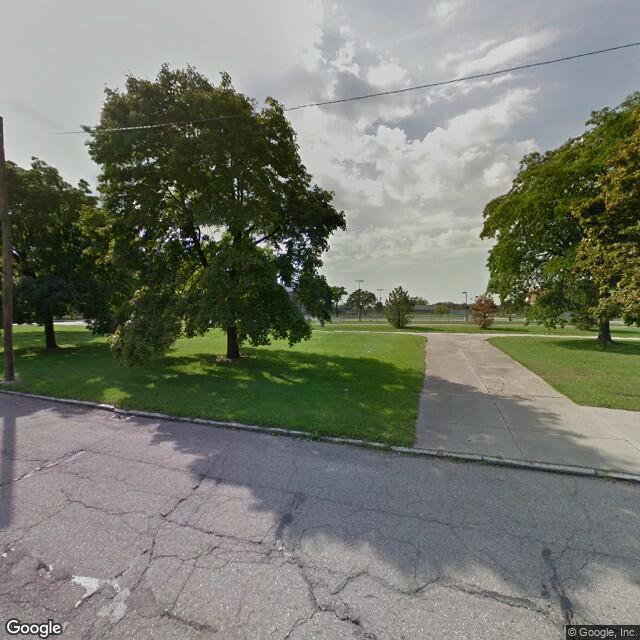litter: (340, 387, 351, 393)
